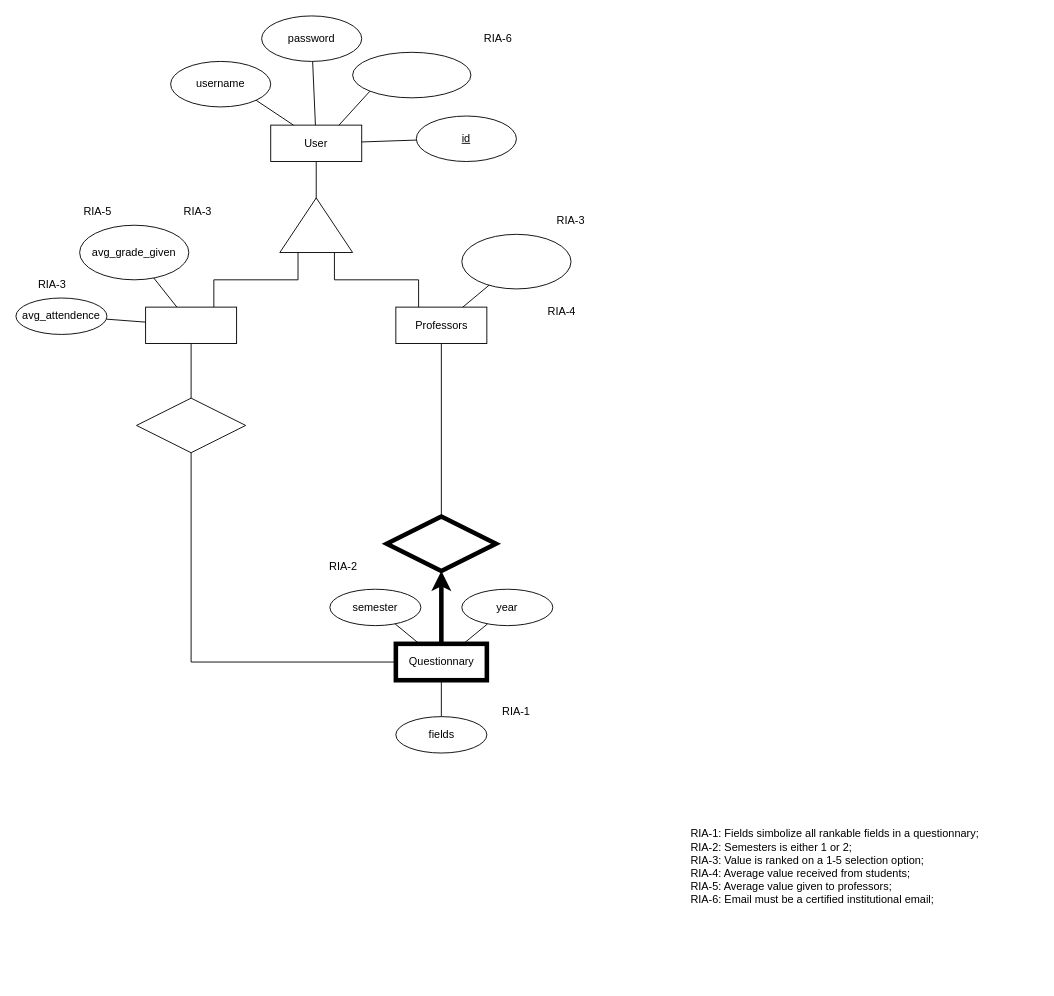
This 1054x996 diagram has some shape labels left out. The shapes that lost their labels are listed below. From the top down, each one's box as (x1, y1, x2, y2) in pixels, then its label:
(352, 51, 471, 98): institutional_email
(279, 197, 353, 253): ISA
(461, 233, 571, 289): avg_grade_received
(145, 306, 237, 344): Student
(136, 397, 246, 453): submits
(384, 514, 498, 573): have
